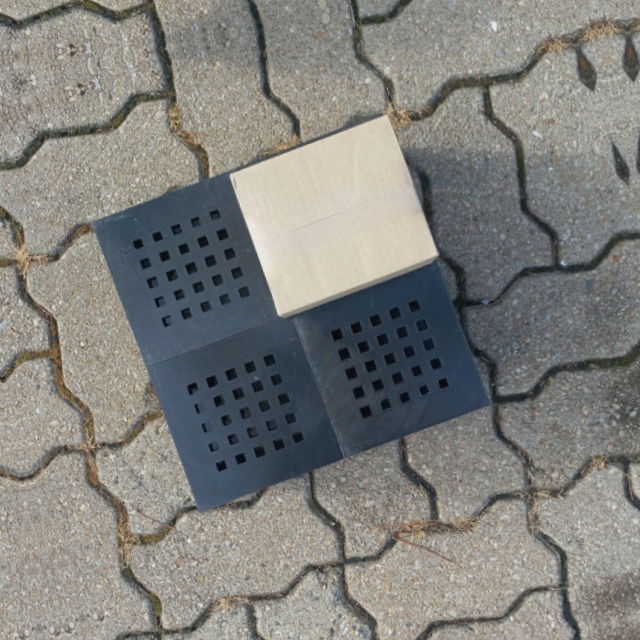box: (226, 111, 442, 323)
pallet: (80, 108, 500, 523)
